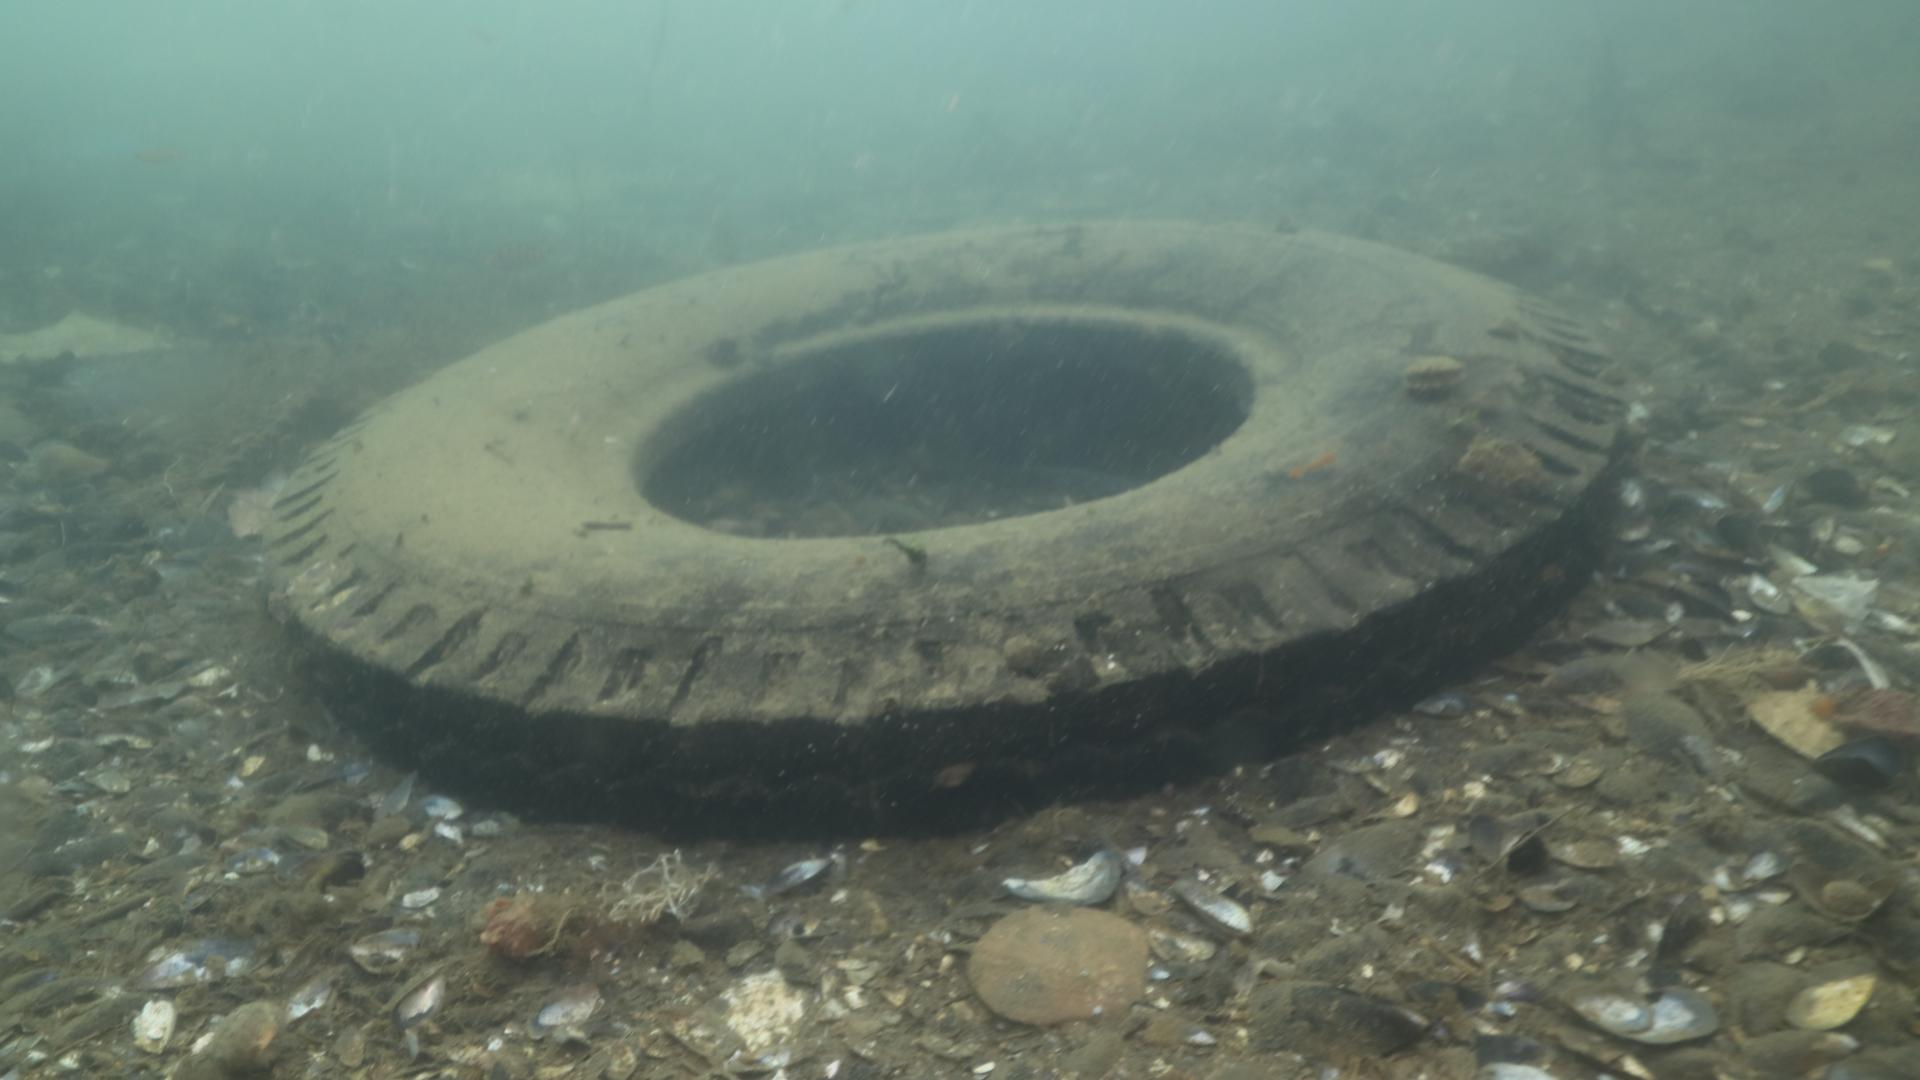tire: (247, 207, 1619, 837)
